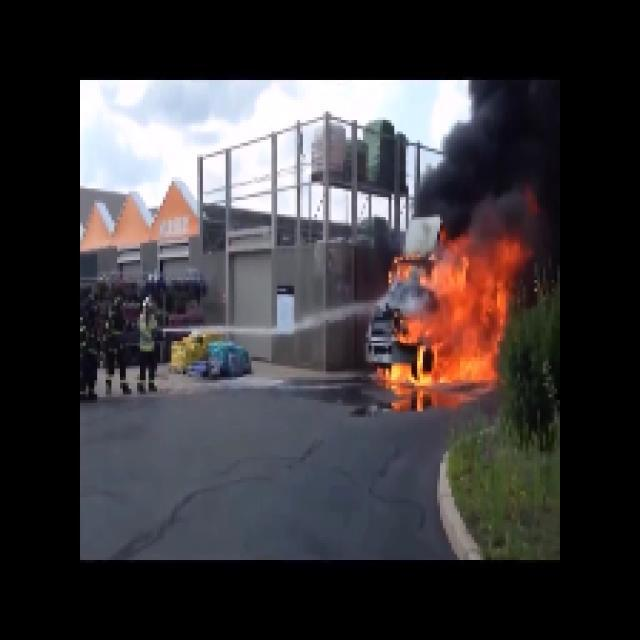Fire: (408, 234, 519, 402)
Smoke: (443, 80, 564, 234)
